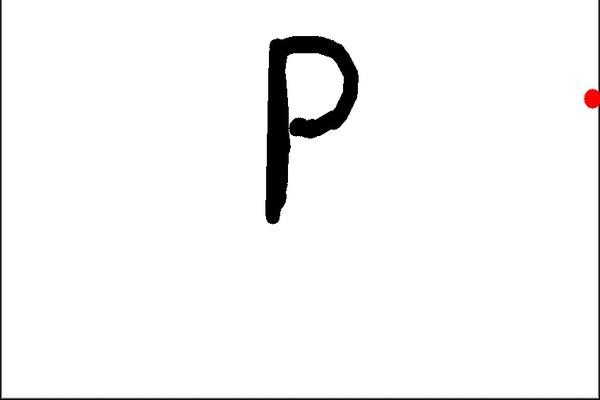P: (255, 27, 370, 228)
